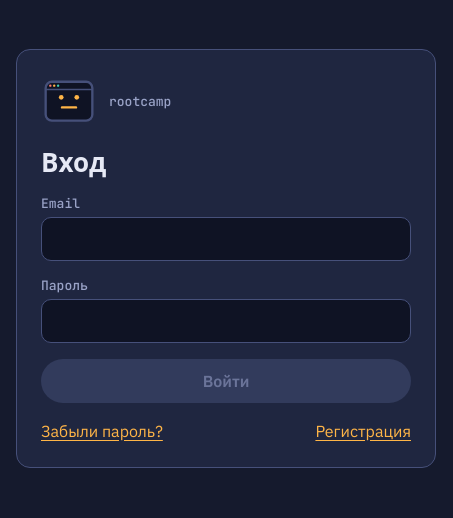
Test: Login › shows a wrong-credentials error on 401
This screenshot has width=453, height=518.
In the field labelled "Email": (226, 238) [41,216,411,260], type "neo@example.com"
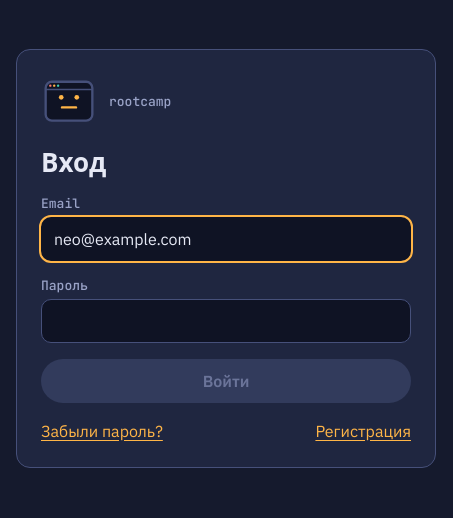
In the password field labelled "Пароль": (226, 320) [41,298,411,342], type "correct-horse"
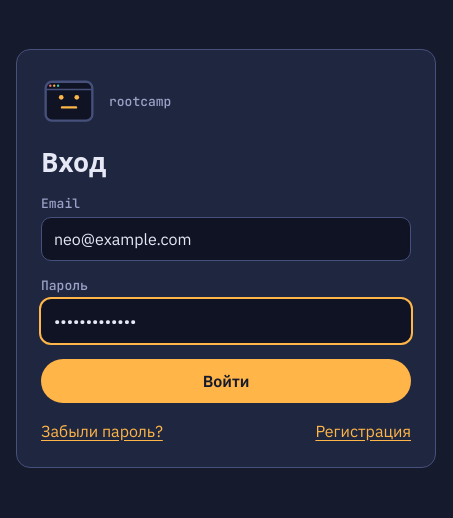
Click the button "Войти": (226, 380) [41,358,411,402]
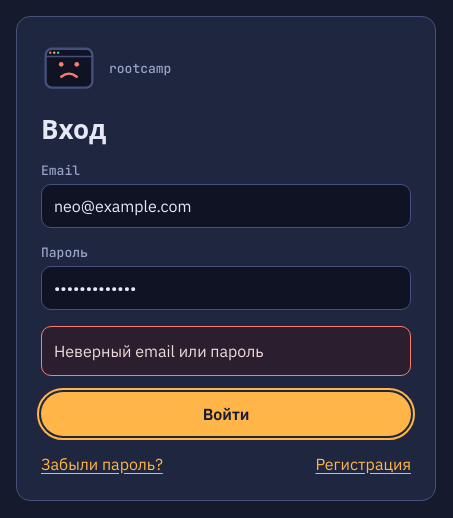
Expected: the message reads "Неверный email или пароль", [54,340,264,360]
